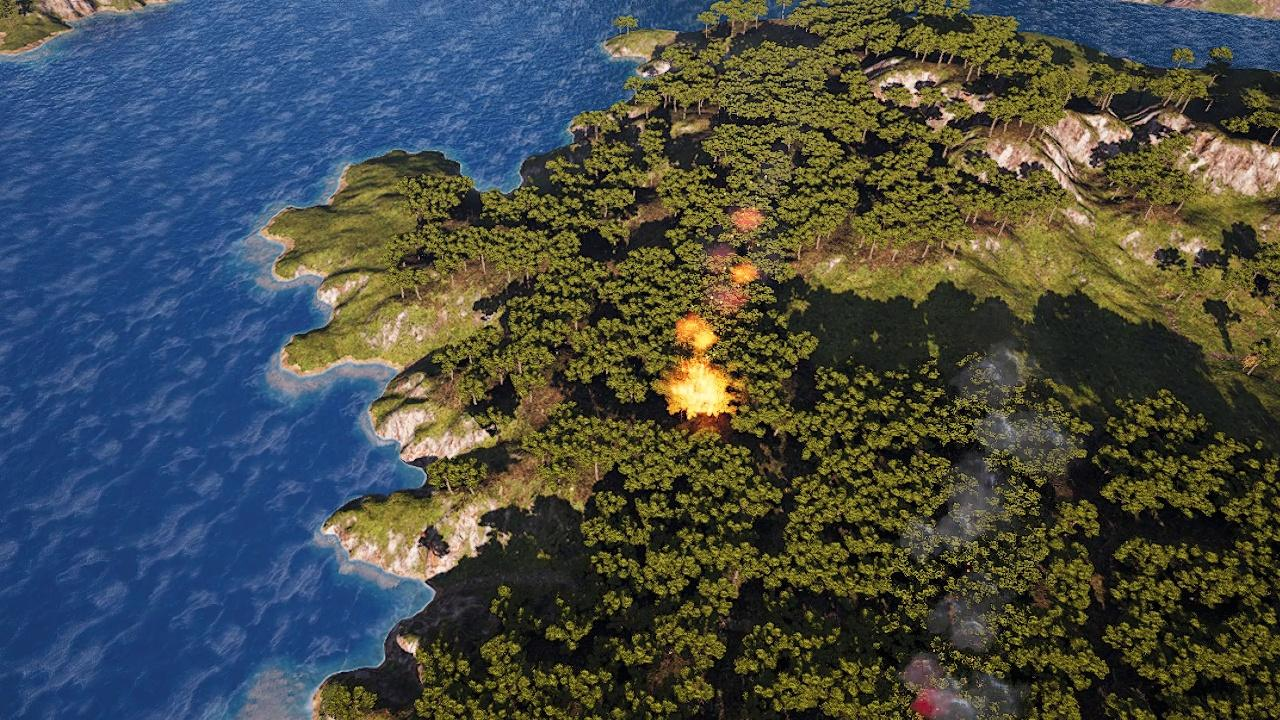fire: (669, 361, 733, 419), (678, 320, 718, 354), (731, 266, 754, 284)
smoke: (898, 339, 1066, 559), (900, 592, 1033, 718), (702, 204, 764, 314), (729, 203, 761, 234)
